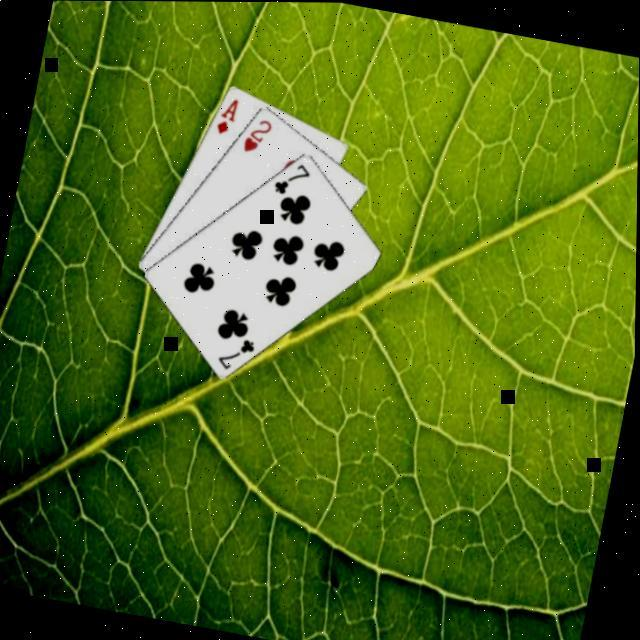2H: (238, 110, 275, 155)
7C: (267, 153, 314, 199), (212, 328, 259, 373)
AD: (210, 90, 240, 135)
